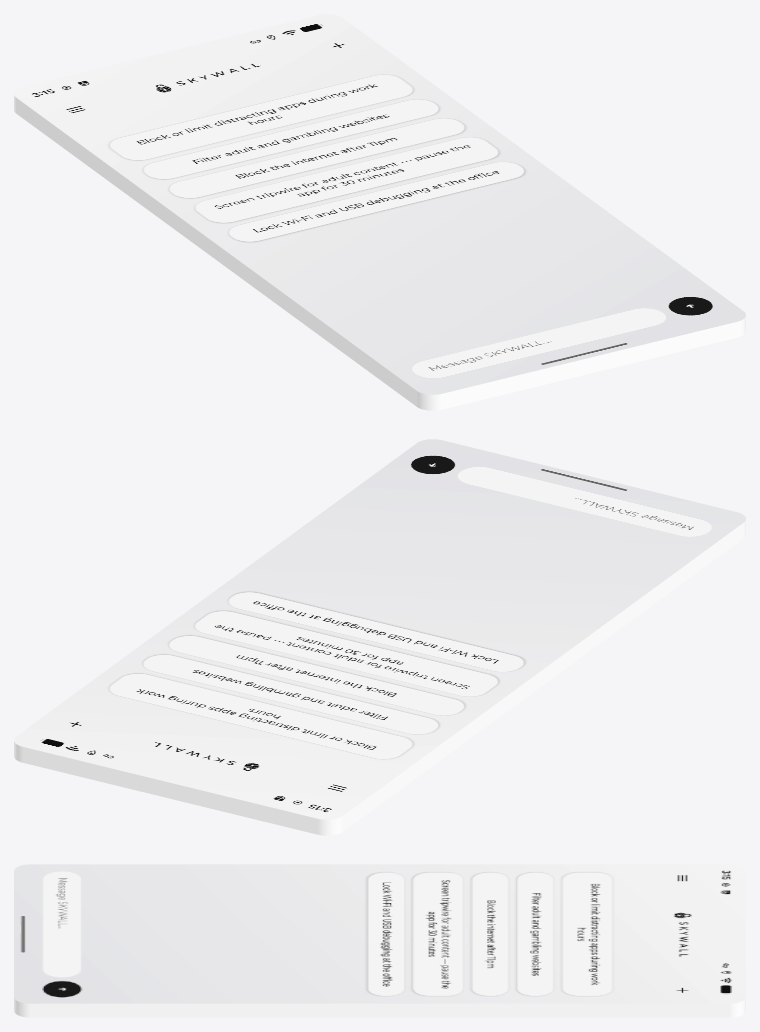
File: os-panel-homescreen.glb
3 renders of one model, top to bottom at view 1: azimuth 30°, elevation 25°; view 2: azimuth 150°, elevation 25°; view 3: azimuth 270°, elevation 25°, orthographic. The views are drawn at different scales.
Parts seen in each view (by area): view 1: OS base.003; view 2: OS base.003; view 3: OS base.003.
Boxes of the visible parts, left/top/right/bottom form: OS base.003: left=14, top=14, right=745, bottom=410; OS base.003: left=14, top=439, right=745, bottom=835; OS base.003: left=14, top=864, right=745, bottom=1017.
Bounding box in the file's own units: 0.0636 × 0.00297 × 0.1413.
2 materials, 1 textured.
